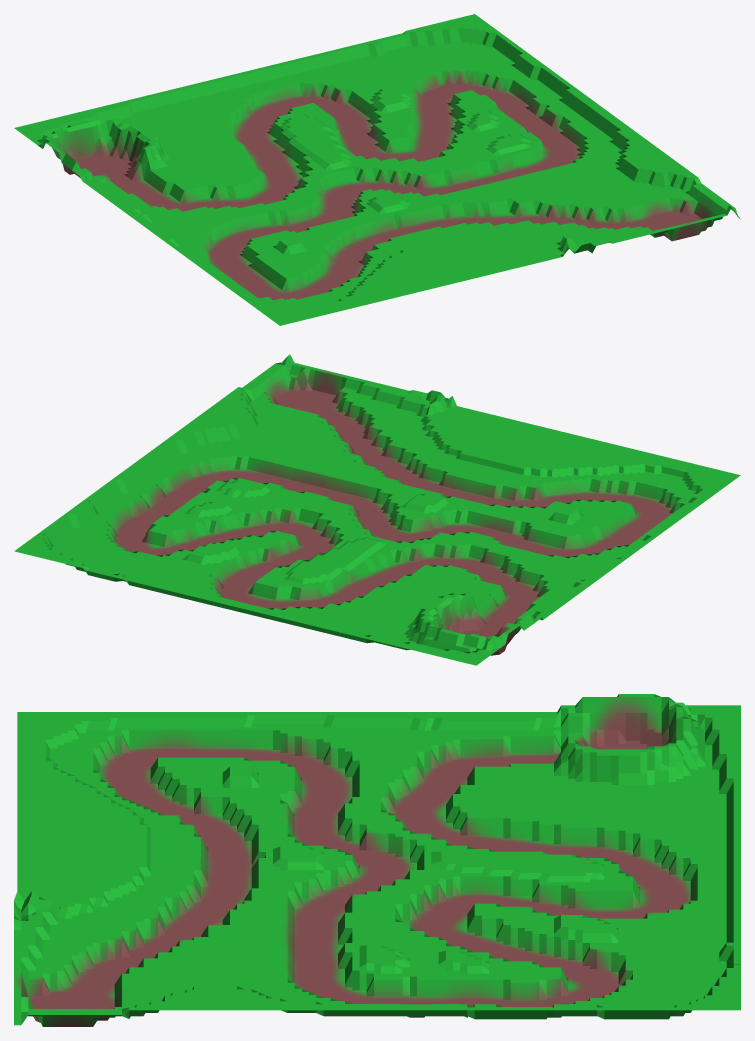
Rendered from map.glb.
The picture shows the model from 3 angles, top to bottom: view 1: azimuth 30°, elevation 25°; view 2: azimuth 150°, elevation 25°; view 3: azimuth 270°, elevation 25°; orthographic projection. The views are drawn at different scales.
Visible parts, largest first — view 1: Plane; view 2: Plane; view 3: Plane.
Part boxes in pixels (bbox=[...]): Plane: bbox=[14, 14, 740, 325]; Plane: bbox=[14, 354, 740, 665]; Plane: bbox=[14, 694, 740, 1026].
Bounding box in the file's own units: 200 × 11.45 × 200.
1 material, 1 textured.
